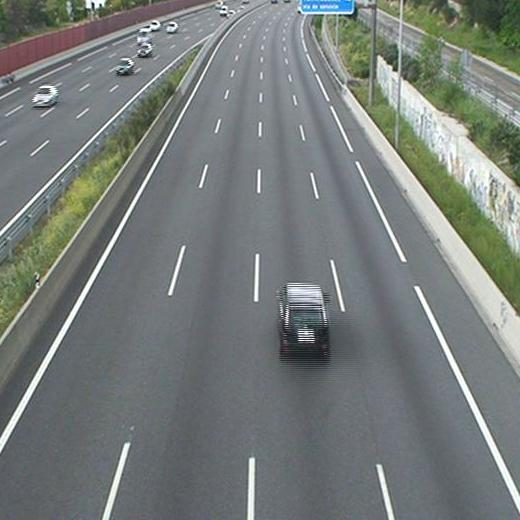car: (275, 283, 331, 359)
